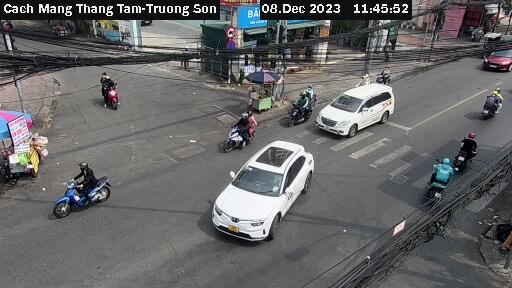car: (207, 141, 318, 246), (317, 83, 395, 142), (481, 39, 512, 75)
motorbike: (48, 166, 117, 228), (419, 153, 459, 205), (219, 108, 258, 158), (94, 67, 128, 109), (451, 132, 486, 169), (479, 88, 512, 122), (287, 90, 316, 125)
